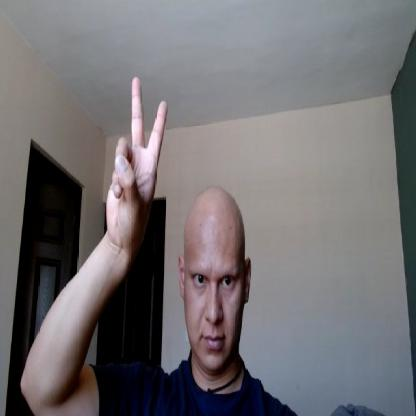V: (105, 76, 167, 248)
